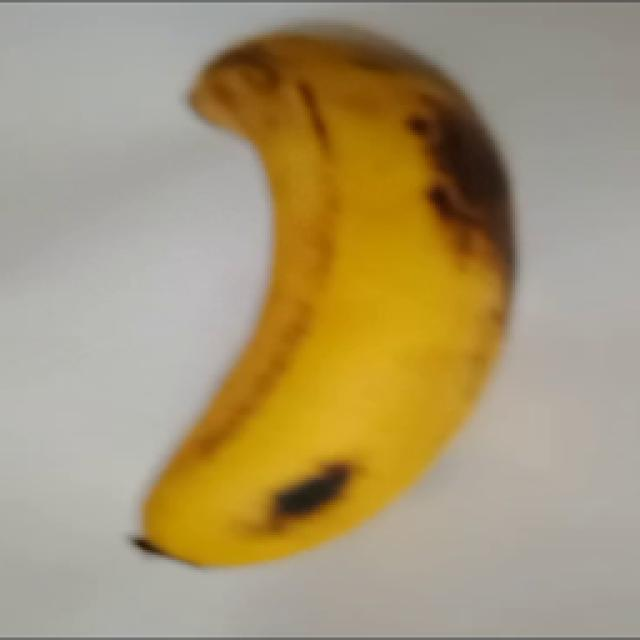Fresh_Apple: (79, 4, 156, 21)
